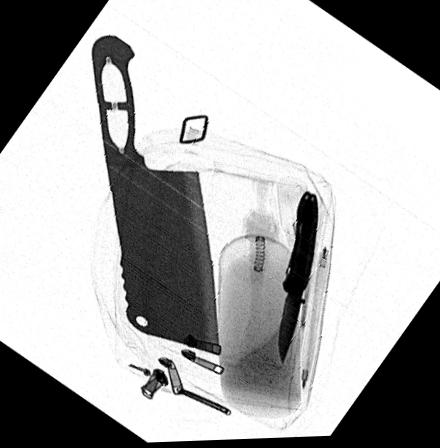Knife: (90, 35, 221, 358), (277, 192, 318, 369)
